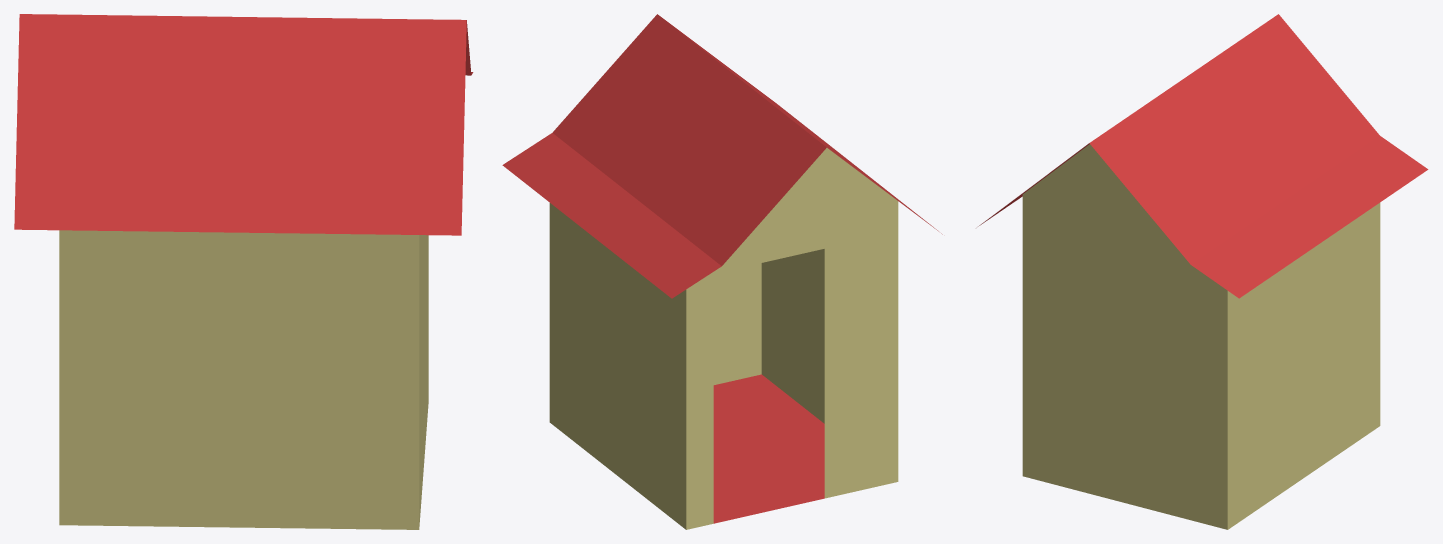
3 renders of one model, left to right at view 1: azimuth 30°, elevation 25°; view 2: azimuth 150°, elevation 25°; view 3: azimuth 270°, elevation 25°, orthographic. The views are drawn at different scales.
Bounding box in the file's own units: 13.36 × 12.92 × 11.55.
